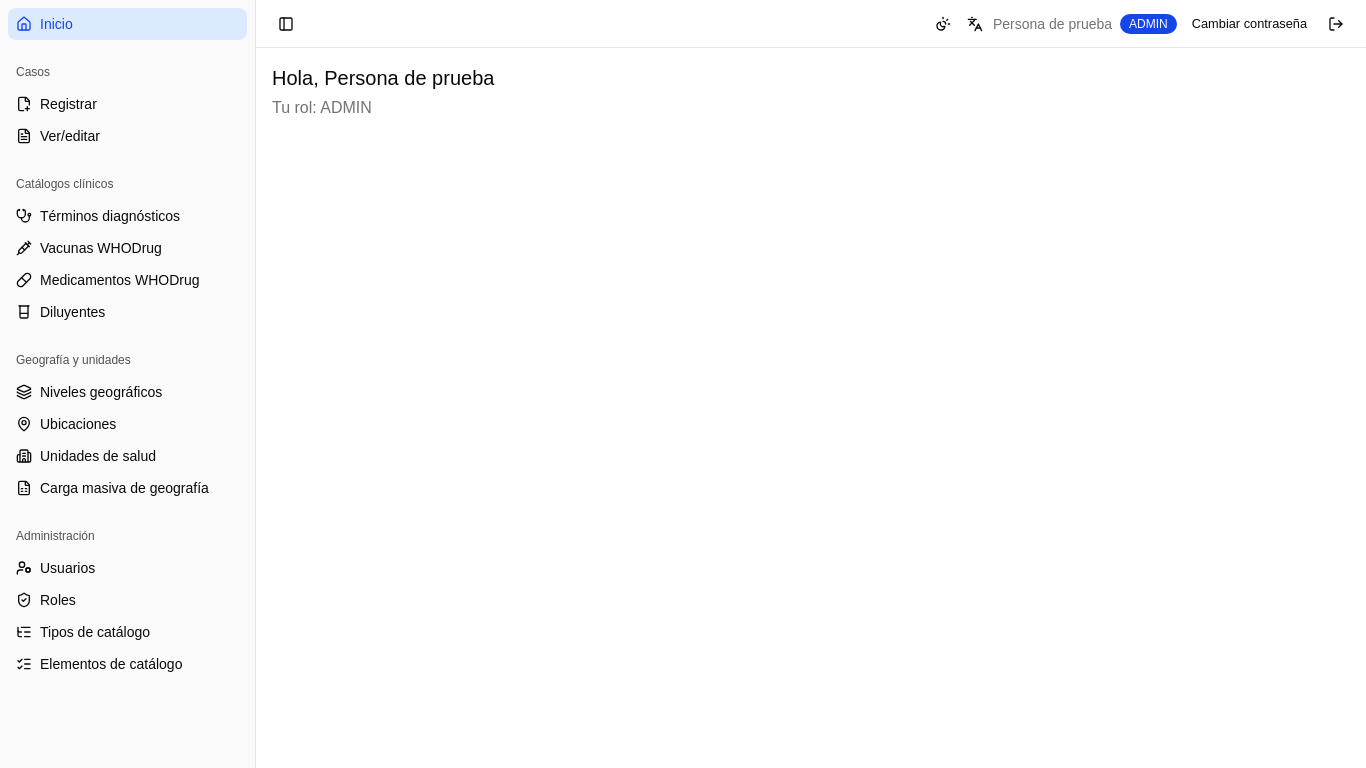
Test: Ruta /whodrug-products — navegación desde el sidebar (SPEC FE25d §4 paso 9) › con ADMIN, el ítem aparece y lleva al listado
This screenshot has width=1366, height=768.
Click the link "Medicamentos WHODrug". click: (108, 280)
box: [16, 272, 200, 288]
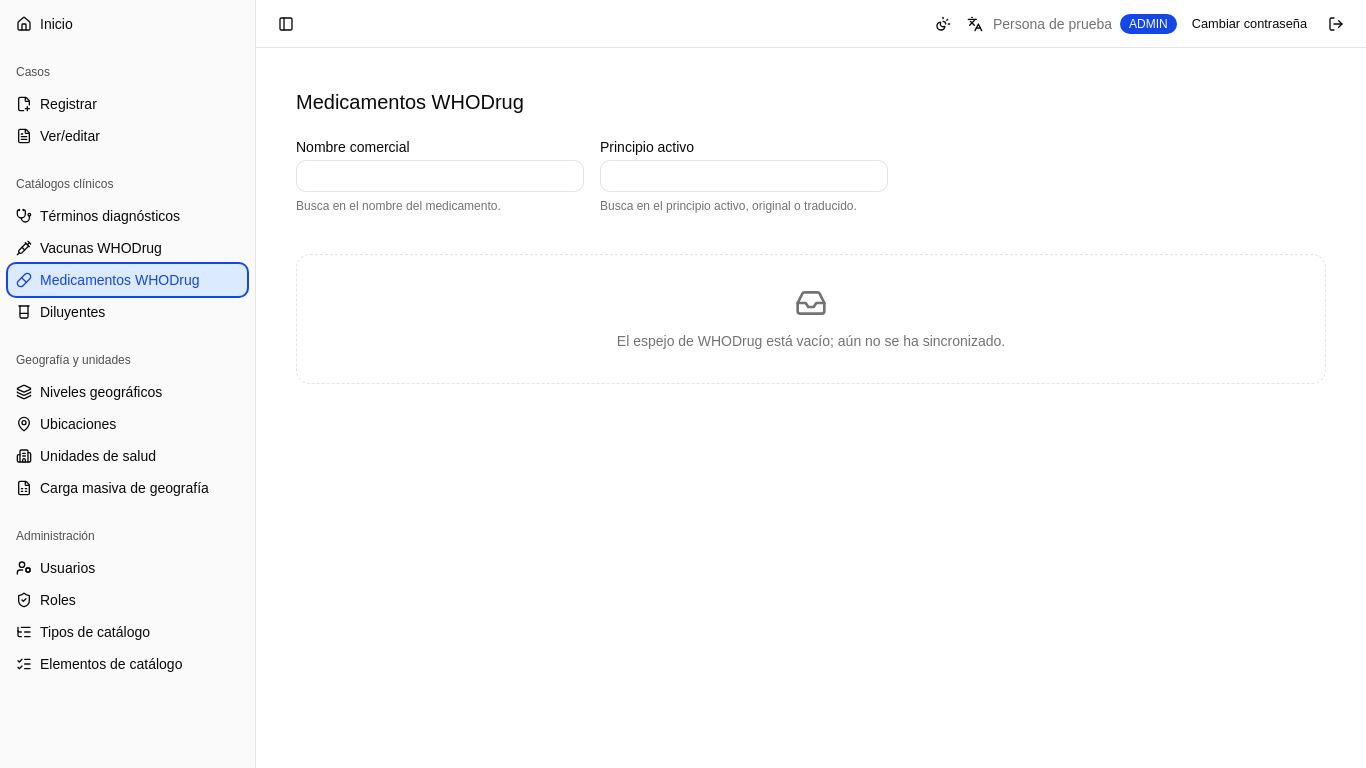
Expected: the heading "Medicamentos WHODrug" is shown, [296, 88, 524, 116]
